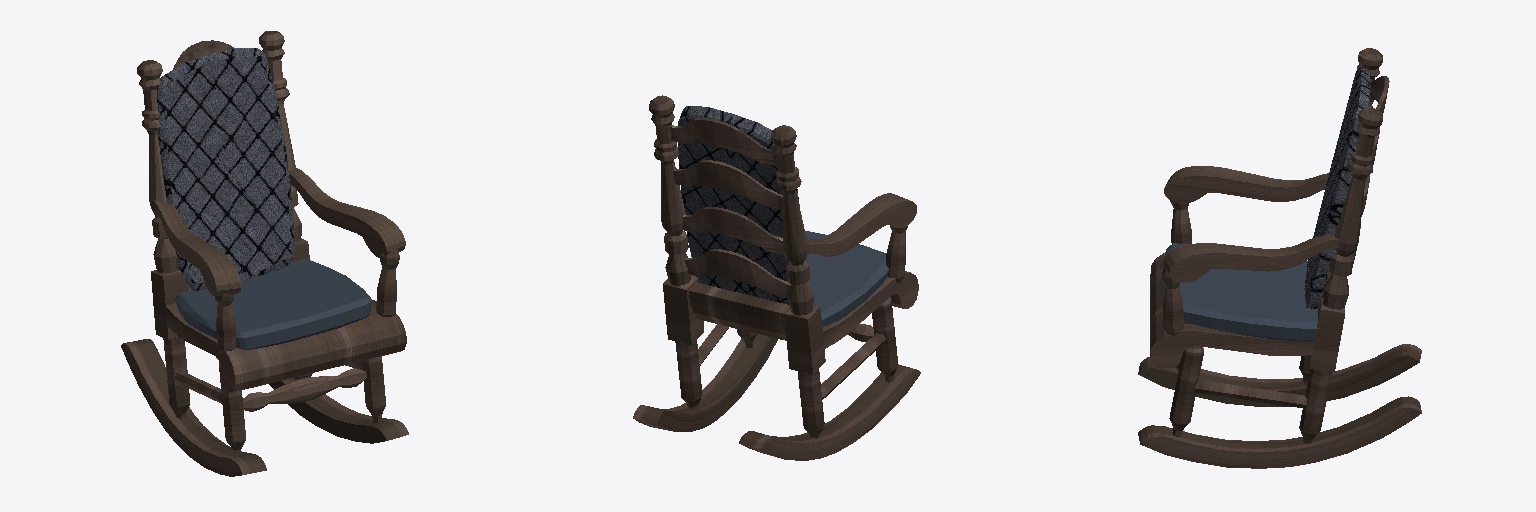
3 renders of one model, left to right at view 1: azimuth 30°, elevation 25°; view 2: azimuth 150°, elevation 25°; view 3: azimuth 270°, elevation 25°, orthographic.
Visible parts, largest first — view 1: Asylum_RockingChair01_3, node0.001, node0; view 2: Asylum_RockingChair01_3, node0.001, node0; view 3: Asylum_RockingChair01_3, node0, node0.001.
Part boxes in pixels (bbox=[...]): Asylum_RockingChair01_3: bbox=[121, 31, 408, 476]; node0.001: bbox=[157, 48, 294, 290]; node0: bbox=[175, 259, 370, 349]; Asylum_RockingChair01_3: bbox=[633, 95, 920, 460]; node0.001: bbox=[678, 106, 805, 304]; node0: bbox=[693, 231, 888, 326]; Asylum_RockingChair01_3: bbox=[1138, 48, 1421, 468]; node0: bbox=[1163, 243, 1318, 340]; node0.001: bbox=[1304, 67, 1370, 308].
Size of the model in its own units: 44.88 by 79.97 by 58.47.
3 materials, 3 textured.